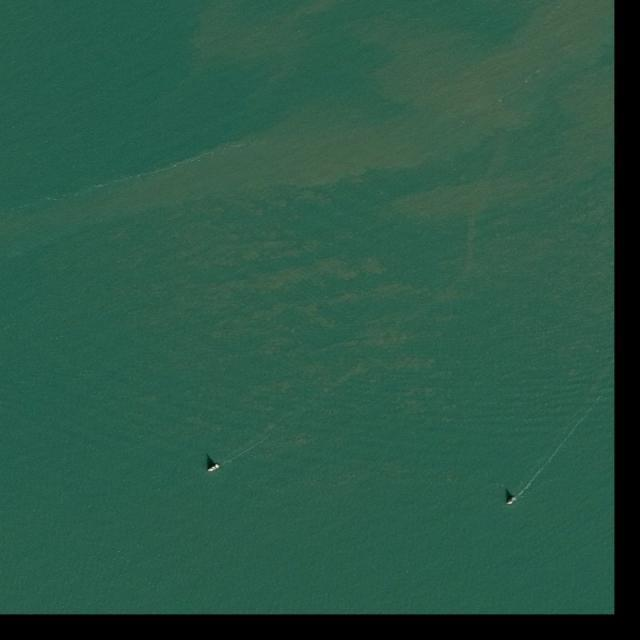ship: (206, 462, 222, 474), (506, 496, 518, 506)
